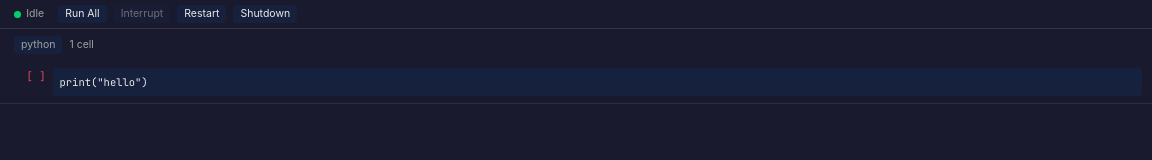
Test: NotebookPreview › kernel integration › renders live outputs from kernel execution
This screenshot has width=1152, height=160.
Note: Click the run button on the code cell
Click the button "[ ]". click: (28, 75)
box: [10,68,46,83]
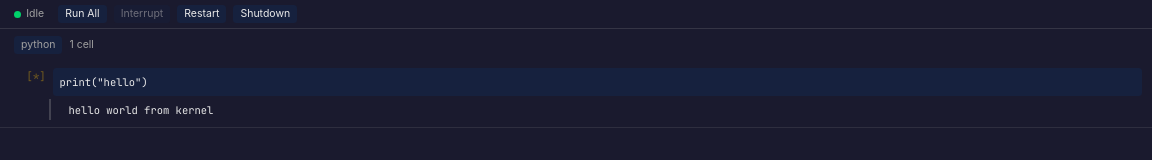
Expected: the text "hello world from kernel" is shown, [68,102,213,116]
